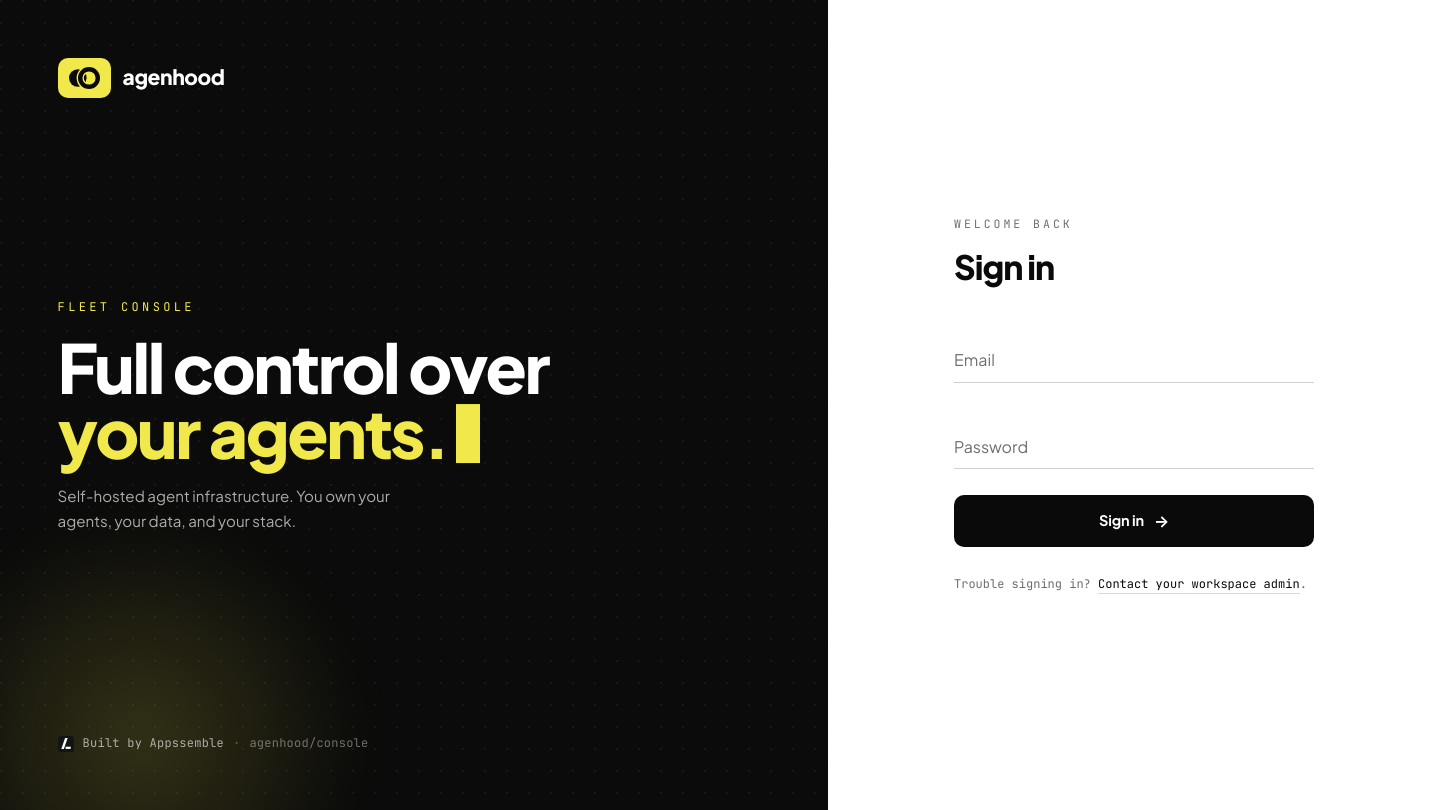
Test: Login › shows a generic error on bad credentials
The width and height of the screenshot is (1440, 810).
Type "d@x.io" into the field labelled "Email" at x=1134, y=352, box [954,322,1314,382]
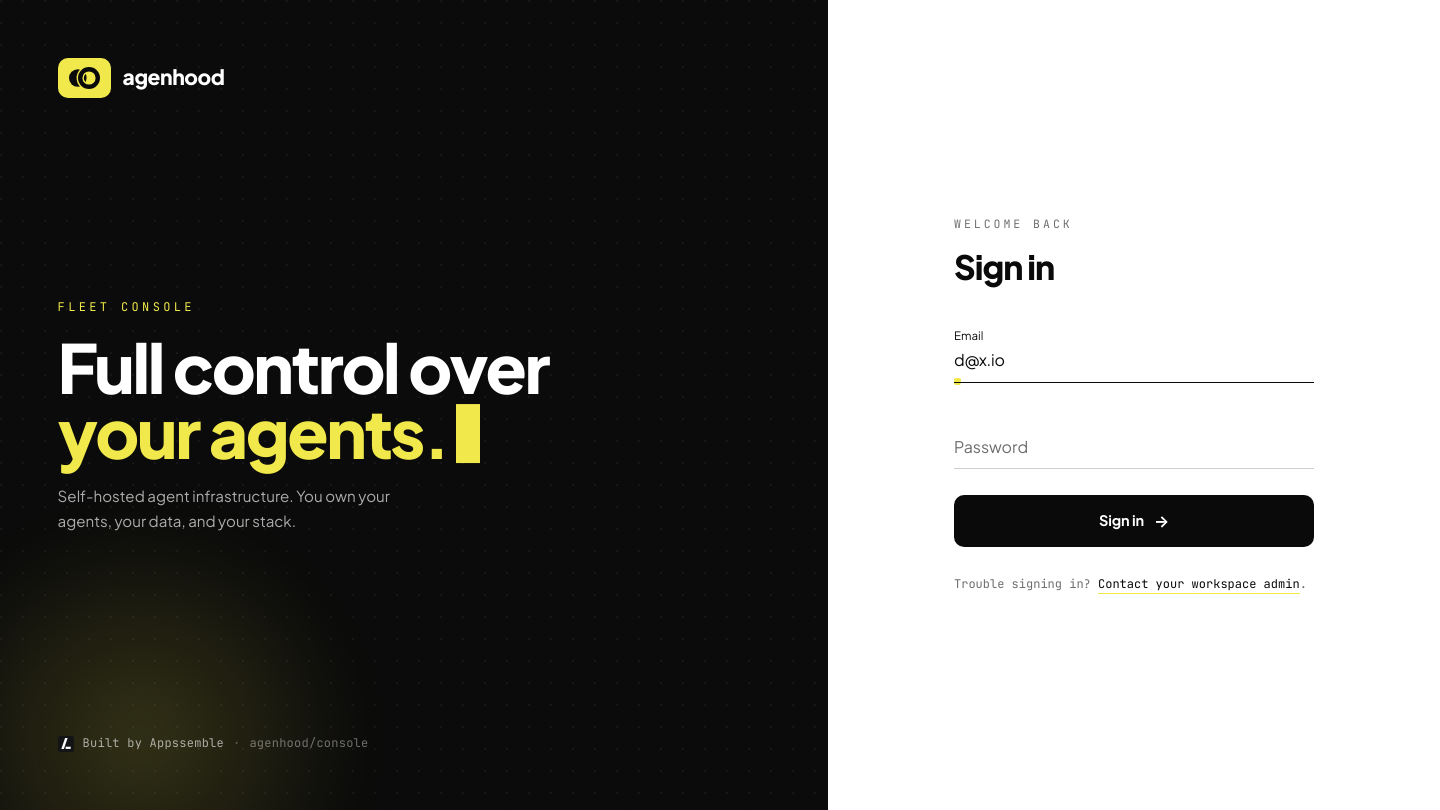
Type "wrong" into the password field labelled "Password" at x=1134, y=438, box [954,409,1314,468]
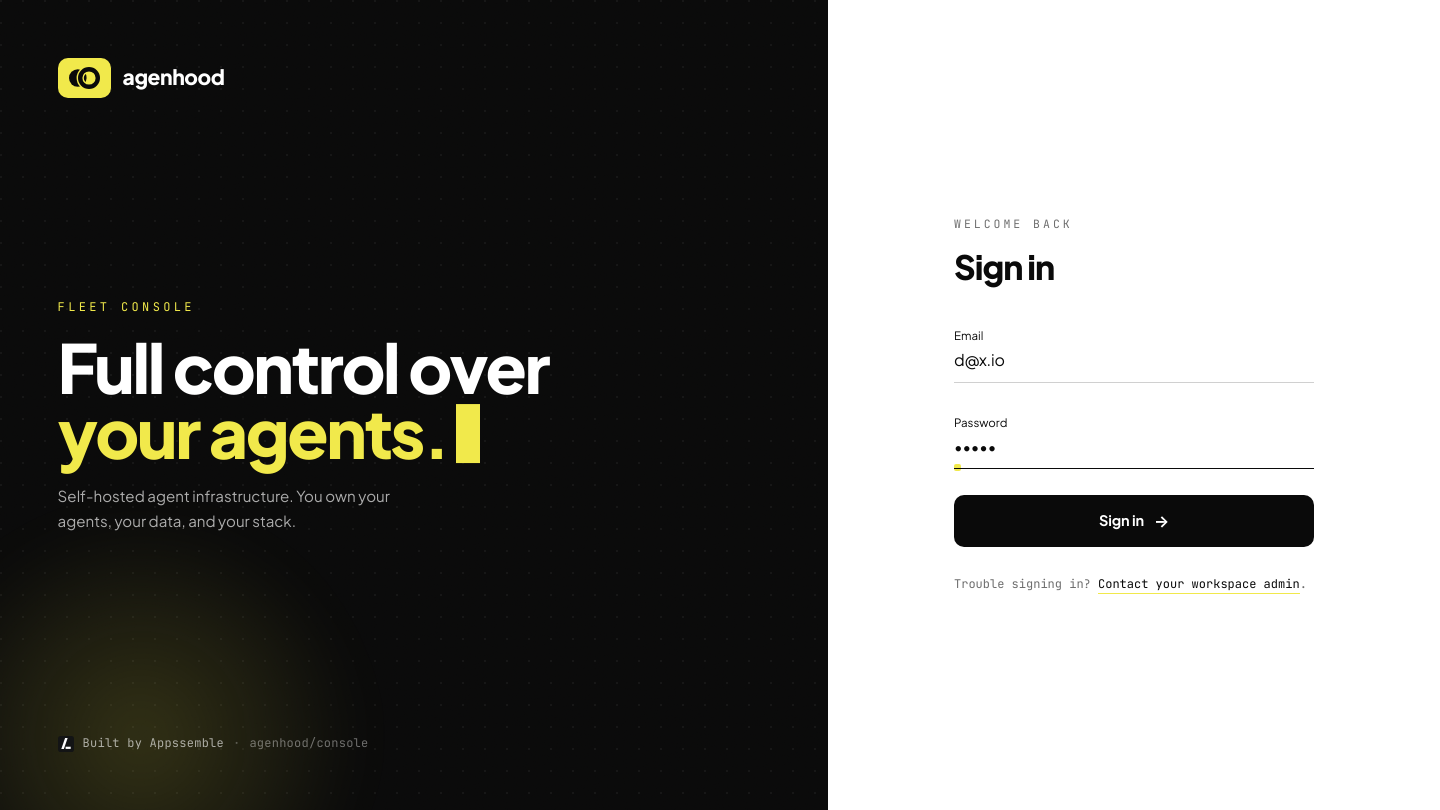
Click the button "Sign in →" at x=1134, y=521, box [954,495,1314,547]
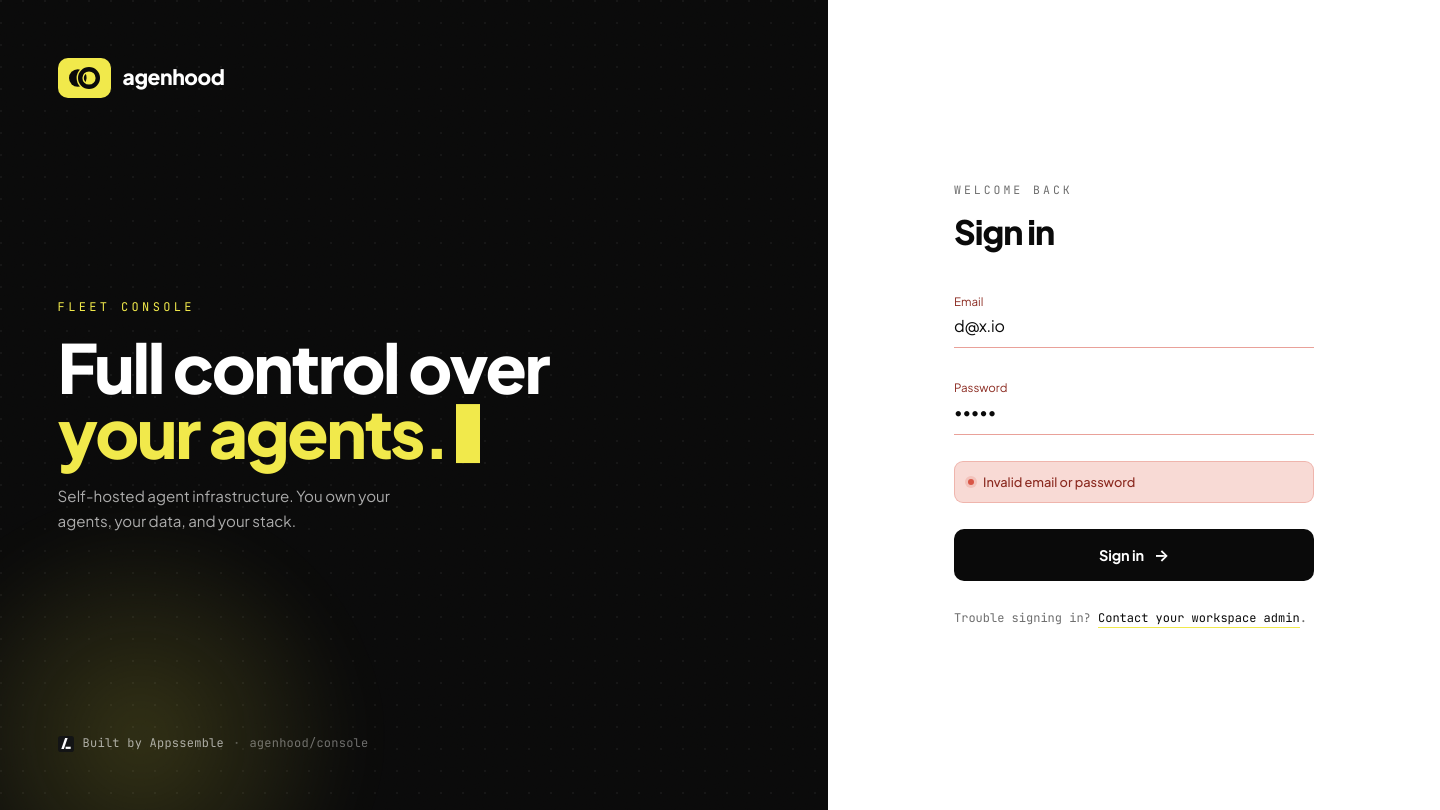
expect the text "Invalid email or password" is shown: met, box [954,460,1314,503]
